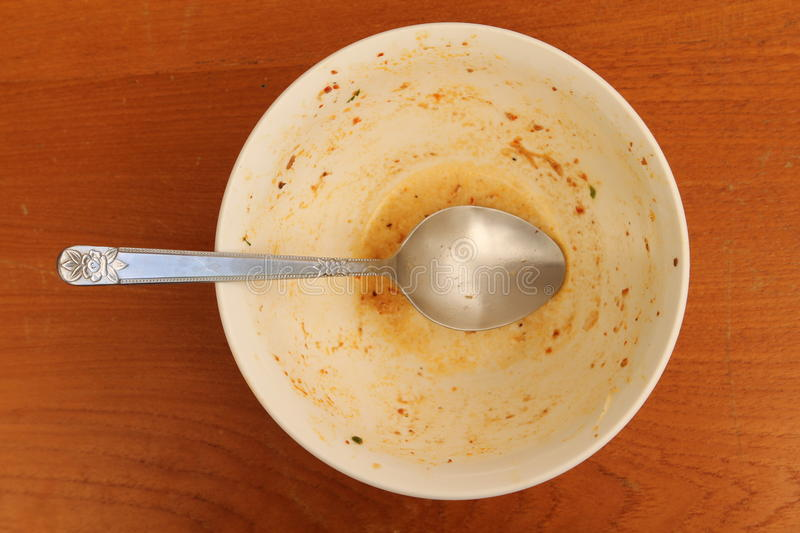bowl: (206, 22, 692, 501)
